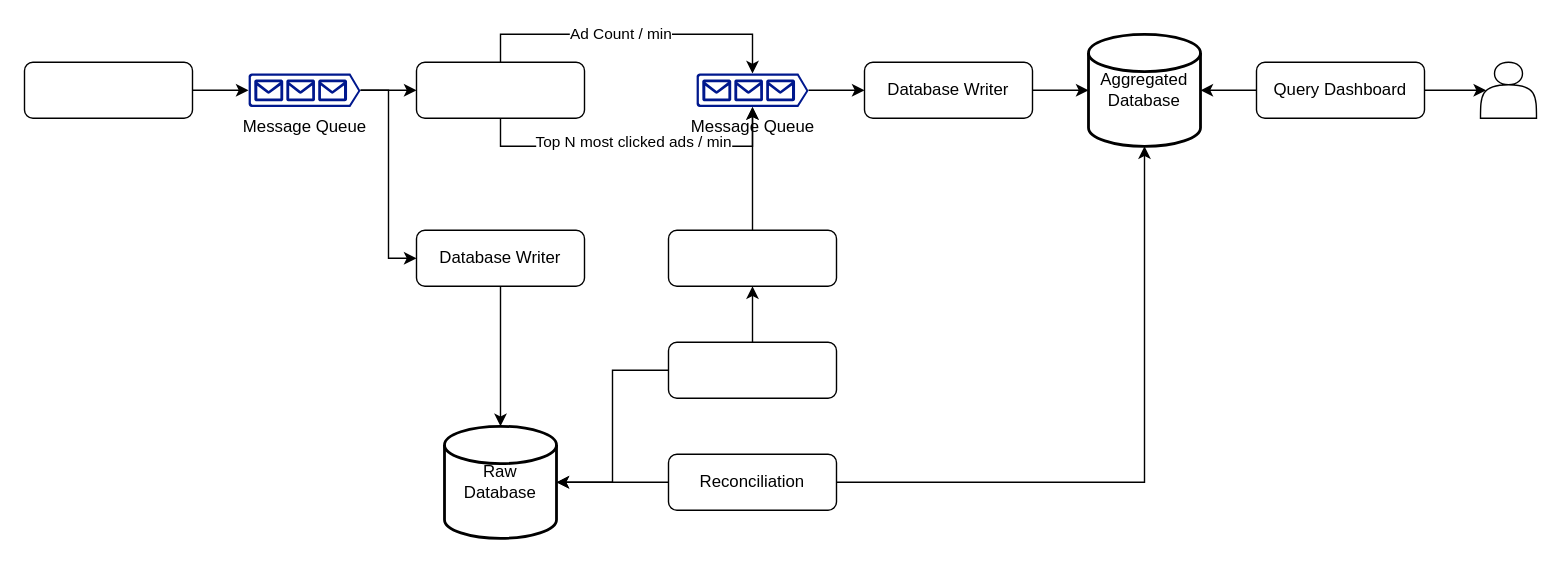
Image size: 1561x564. Some labels were removed from this diagram. The centre of each missing label's shape, as x and y in pixels:
Data Aggregation: the point at 499,89
Data Aggregation (Recalculation Only): the point at 751,257
Log Watcher: the point at 107,89
Recalculation: the point at 751,369
